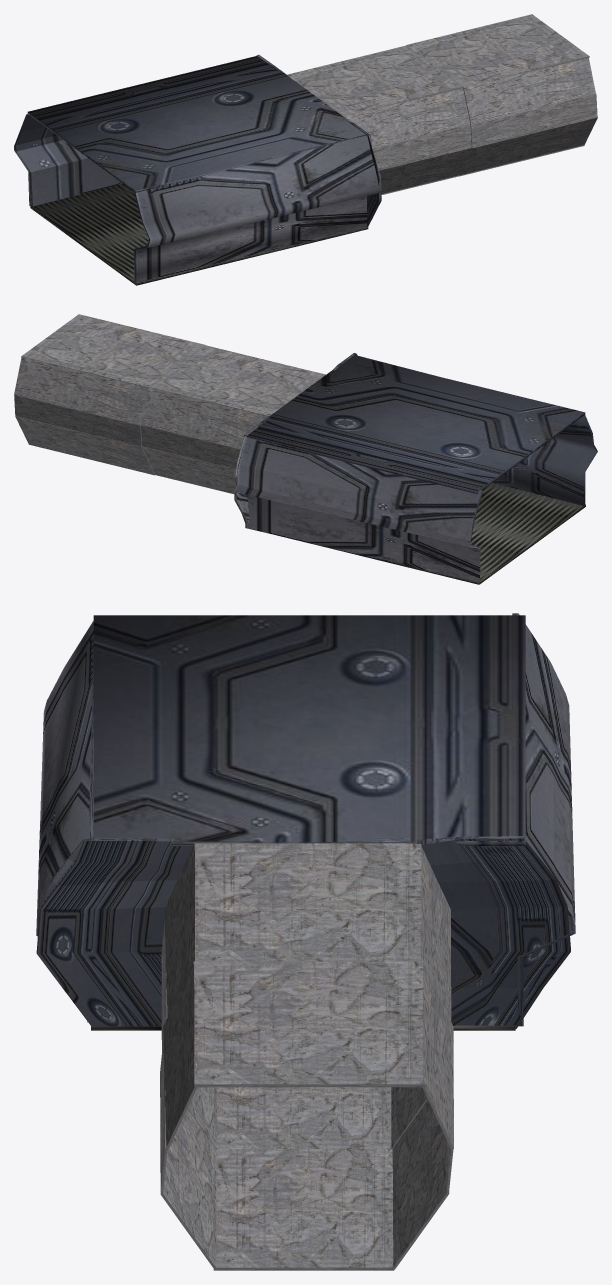
Rendered from Environment.fbx.
3 renders of one model, top to bottom at view 1: azimuth 30°, elevation 25°; view 2: azimuth 150°, elevation 25°; view 3: azimuth 270°, elevation 25°, orthographic. The views are drawn at different scales.
Visible parts, largest first — view 1: Cube.002, Cube.007, Cube.005, Cube, Cube.006, Cube.003; view 2: Cube.002, Cube.007, Cube.006, Cube, Cube.005, Cube.004; view 3: Cube.002, Cube.007, Cube.003, Cube.004, Cube.006, Cube.005.
Boxes of the visible parts, x1,y1,x2,y2 form: Cube.002: (287,14,597,195); Cube.007: (27,56,365,192); Cube.005: (134,134,380,282); Cube: (30,184,368,285); Cube.006: (14,113,122,206); Cube.003: (345,119,381,226); Cube.002: (14,314,325,493); Cube.007: (244,356,585,493); Cube.006: (233,438,482,582); Cube: (288,483,585,584); Cube.005: (354,355,597,505); Cube.004: (234,415,271,523); Cube.002: (160,843,453,1270); Cube.007: (93,615,525,845); Cube.003: (36,838,192,1026); Cube.004: (417,836,570,1028); Cube.006: (512,613,575,1026); Cube.005: (36,621,93,1022).
Size of what is drawn, in the model's own units: 182301 by 34497 by 88229.
